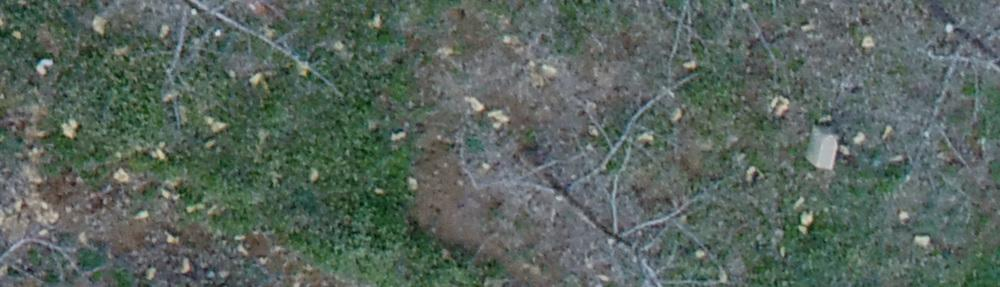apple: (470, 85, 728, 277), (101, 10, 391, 110)
